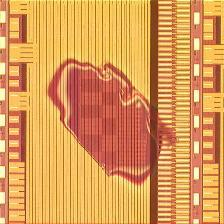PARTICLE: (44, 54, 183, 196)
